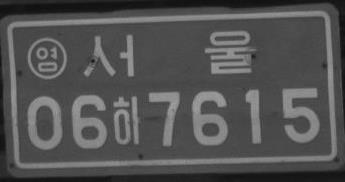0: (25, 94, 63, 151)
1: (237, 88, 272, 145)
5: (281, 87, 321, 143)
6: (191, 89, 228, 147), (70, 93, 108, 149)
7: (147, 90, 181, 147)
서울_D: (82, 29, 255, 77)
영: (26, 36, 67, 80)
하: (113, 95, 142, 144)
